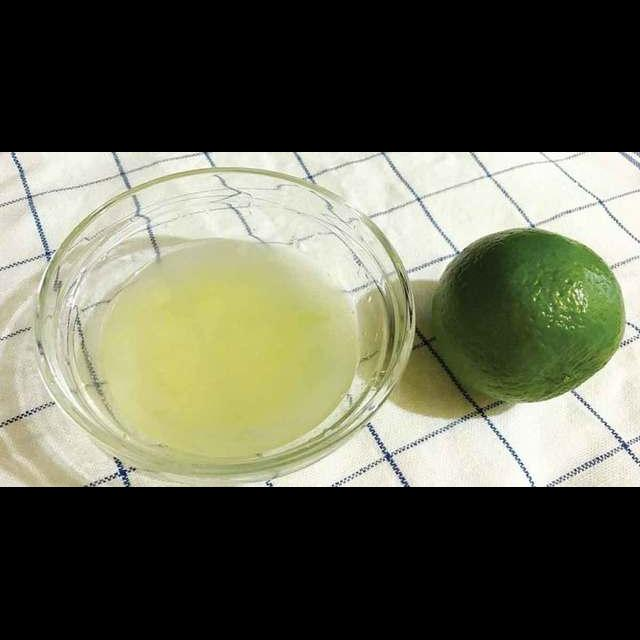lime: (425, 226, 627, 410)
